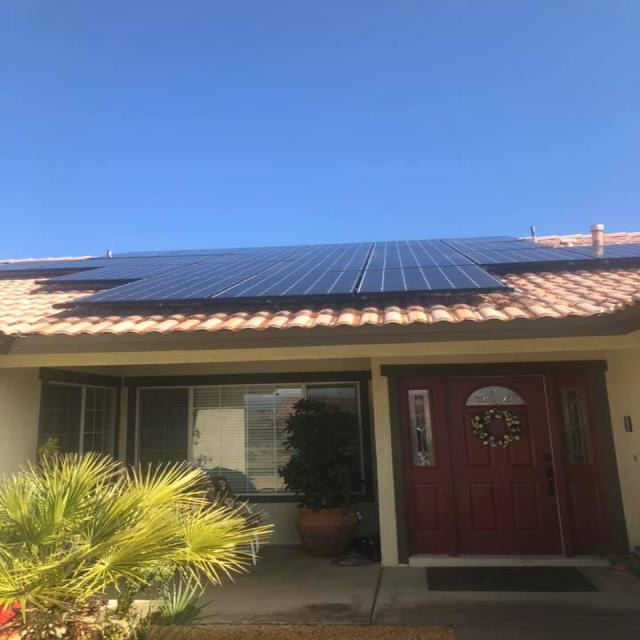clean-solar-panel: (53, 238, 638, 306)
